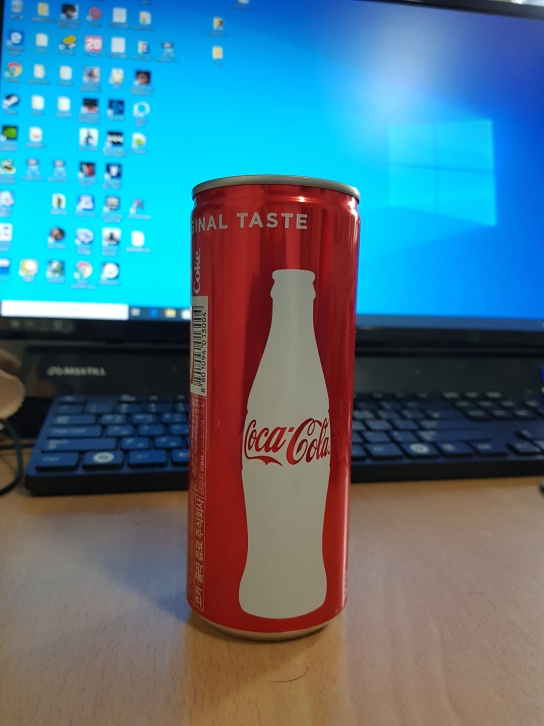Can: (184, 169, 357, 647)
